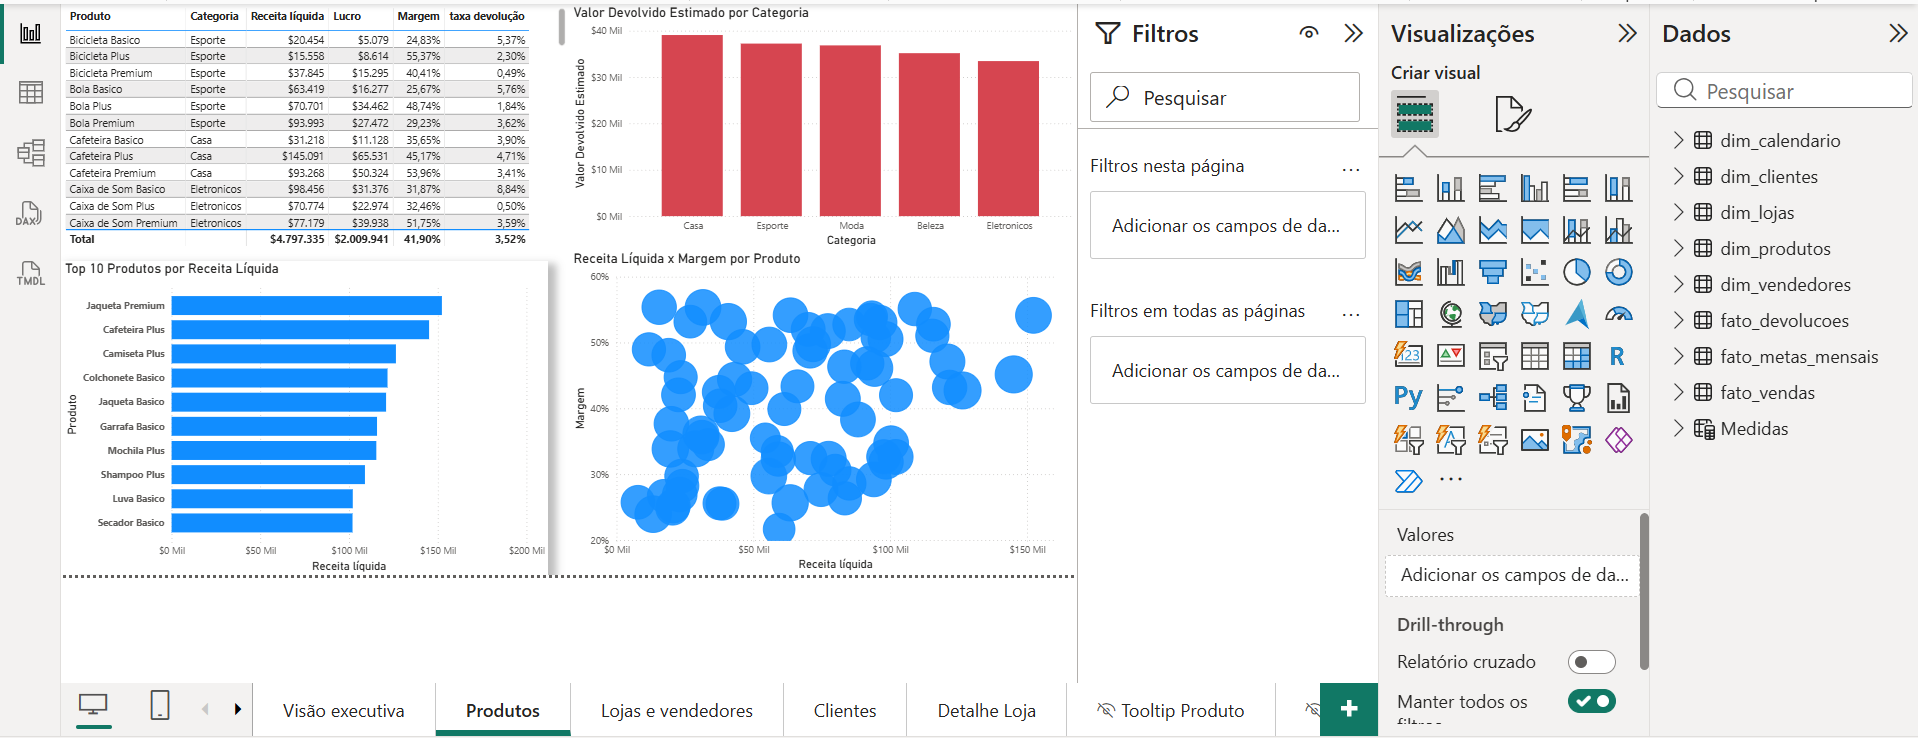

The page's visual inventory and layout, read from the dashboard file:
{"tool":"powerbi","page":{"name":"Produtos","canvas":[1280,720],"ordinal":1},"visuals":[{"type":"clusteredColumnChart","fields":{"Category":["dim_produtos.Categoria"],"Y":["Medidas.Valor Devolvido Estimado"]},"box":[640.6,0,638.7,309.9],"z":0},{"type":"barChart","title":"Top 10 Produtos por Receita Líquida","fields":{"Category":["dim_produtos.Produto"],"Y":["Medidas.Receita líquida"]},"box":[0,323.2,614.2,396.9],"z":1000},{"type":"scatterChart","title":"Receita Líquida x Margem por Produto","fields":{"X":["Medidas.Receita líquida"],"Y":["Medidas.Margem"],"Size":["Medidas.Quantidade Vendida"],"Category":["dim_produtos.Produto"]},"box":[640.6,309.9,638.7,408.2],"z":2000},{"type":"tableEx","fields":{"Values":["dim_produtos.Produto","dim_produtos.Categoria","Medidas.Receita líquida","Medidas.Lucro","Medidas.Margem","Medidas.taxa devolução"]},"box":[0,0,640.6,309.9],"z":3000}]}

Visuals, with their boxes on the page's 1280x720 design canvas (x1, y1, x2, y2). These are canvas units, not pixel positions in the 1918x738 screenshot, which may show the page scaled, cropped or inside an application window:
clusteredColumnChart - dim_produtos.Categoria x Medidas.Valor Devolvido Estimado: locate(641, 0, 1279, 310)
"Top 10 Produtos por Receita Líquida" barChart: locate(0, 323, 614, 720)
"Receita Líquida x Margem por Produto" scatterChart: locate(641, 310, 1279, 718)
tableEx - dim_produtos.Produto x dim_produtos.Categoria: locate(0, 0, 641, 310)
